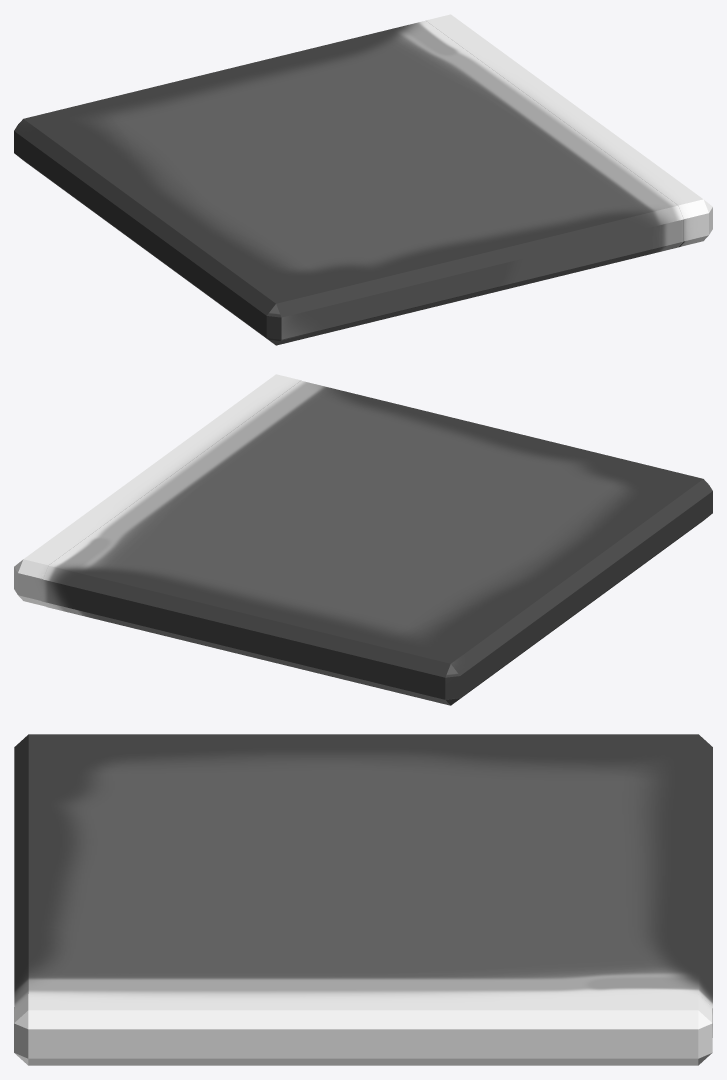
File: calcadatextura1.fbx
3 views of the same model, one above another, from view 1: azimuth 30°, elevation 25°; view 2: azimuth 150°, elevation 25°; view 3: azimuth 270°, elevation 25° (orthographic). The views are drawn at different scales.
Parts seen in each view (by area): view 1: Cube; view 2: Cube; view 3: Cube.
Part boxes in pixels (x1,y1,x2,y2): Cube: (14, 14, 712, 345); Cube: (14, 374, 712, 705); Cube: (14, 734, 712, 1065).
Size of the model in its own units: 474 by 42.74 by 485.
